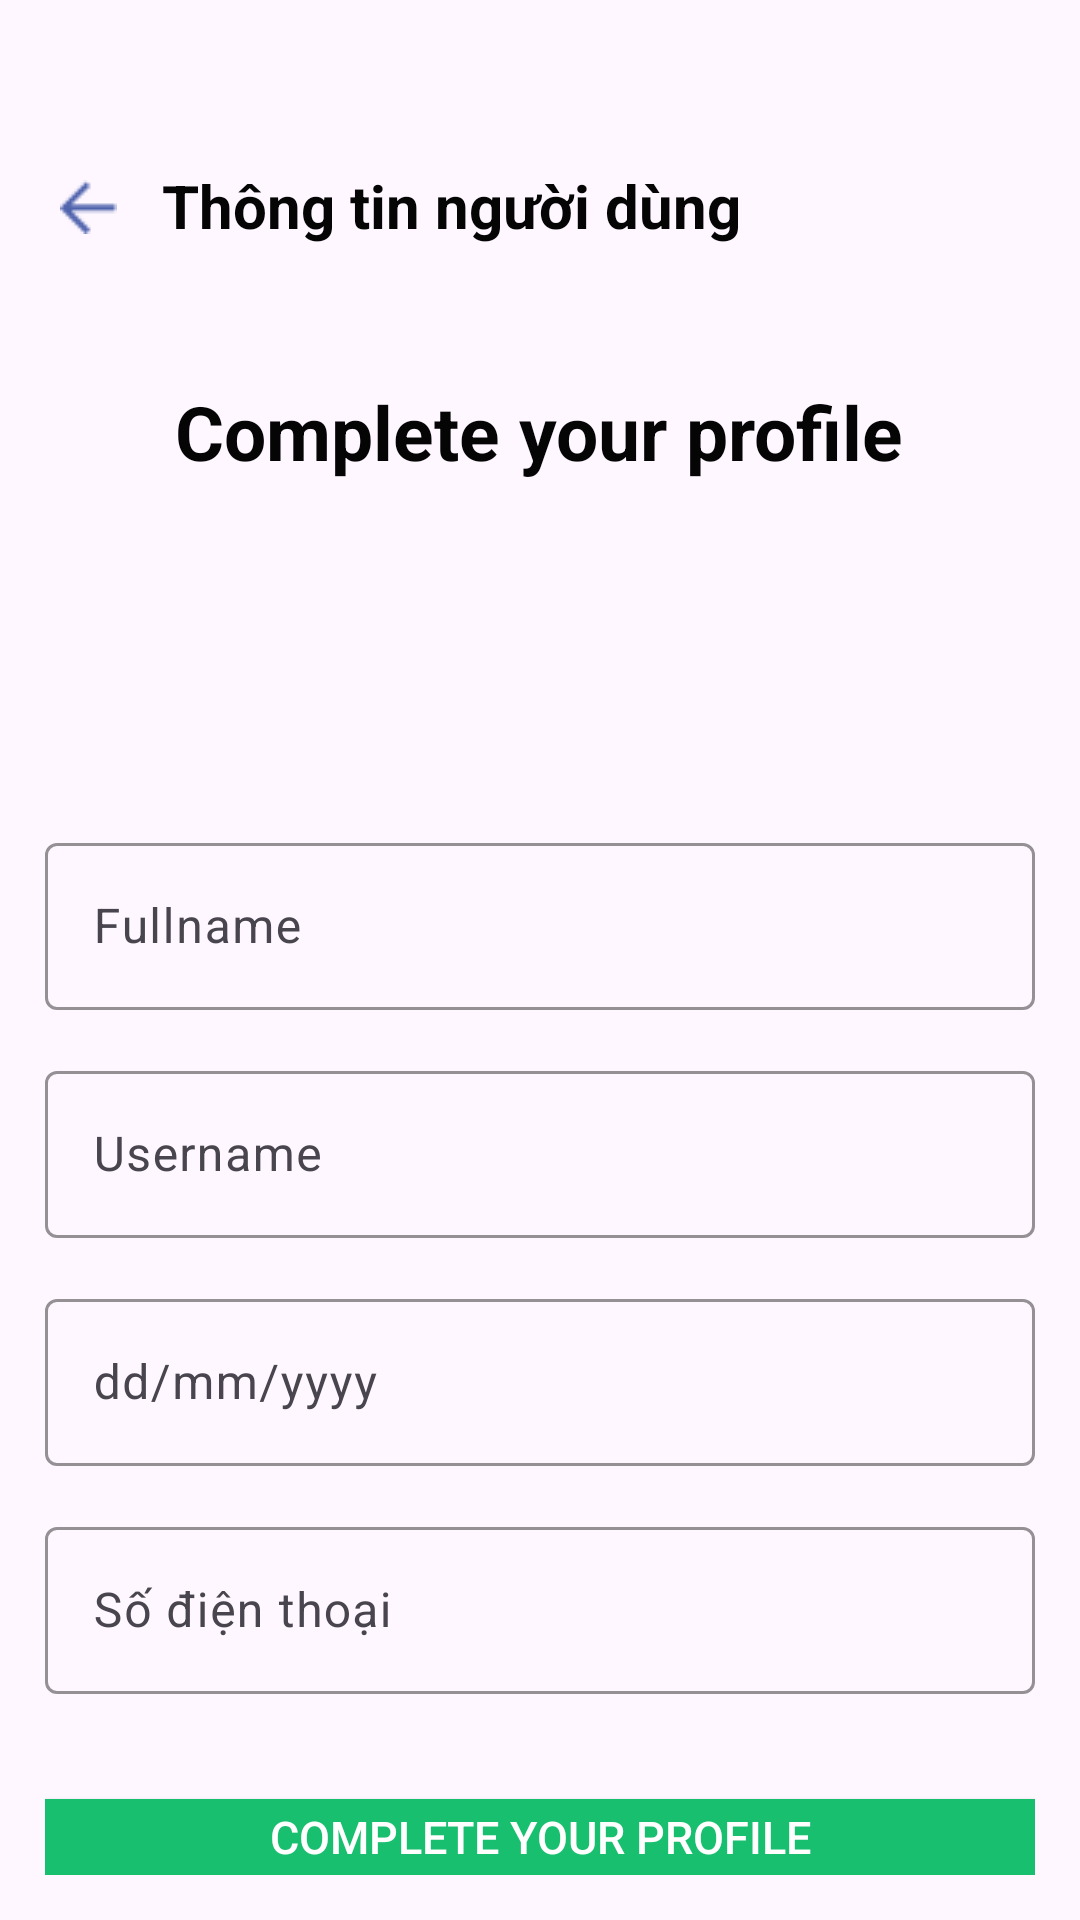

Point at icon controls on the screen. Image size 1080w x 1920h, points as (x,y).
back: (88,208)
